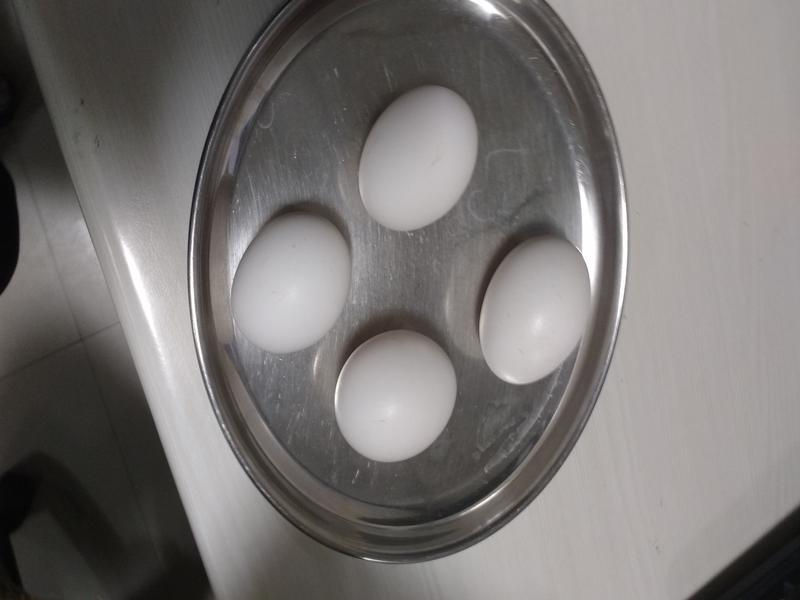egg: (330, 330, 456, 463)
